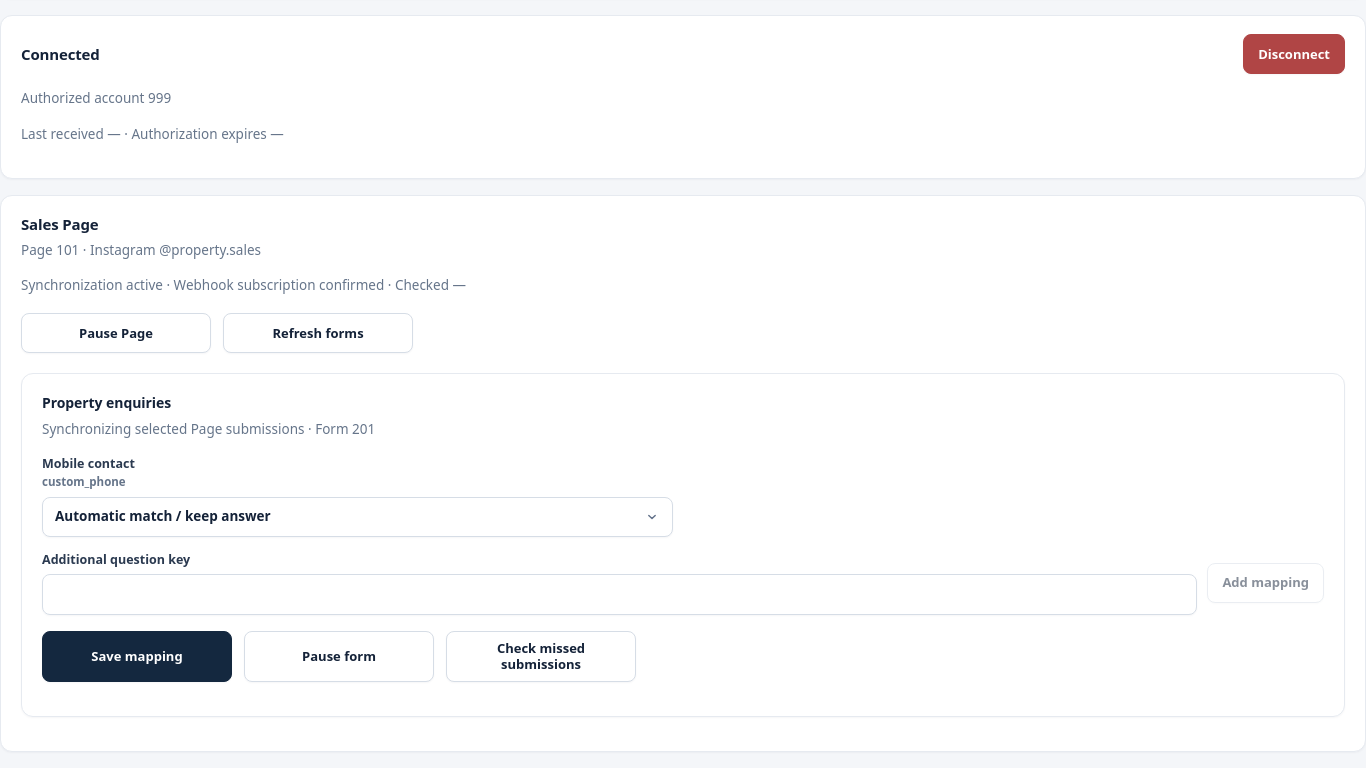
Meta integration and incoming leads interface › displays connection, selected Page, Instagram identity and form mapping controls
(page scrolled)
Expected: the heading "Sales Page" is shown, x1=21 y1=214 x2=98 y2=234
Expected: the text "Page 101 · Instagram @property.sales" is shown, x1=21 y1=241 x2=261 y2=259
Select "phone" in the dropdown named "Map custom_phone" at (358,517), box x1=42 y1=497 x2=673 y2=537
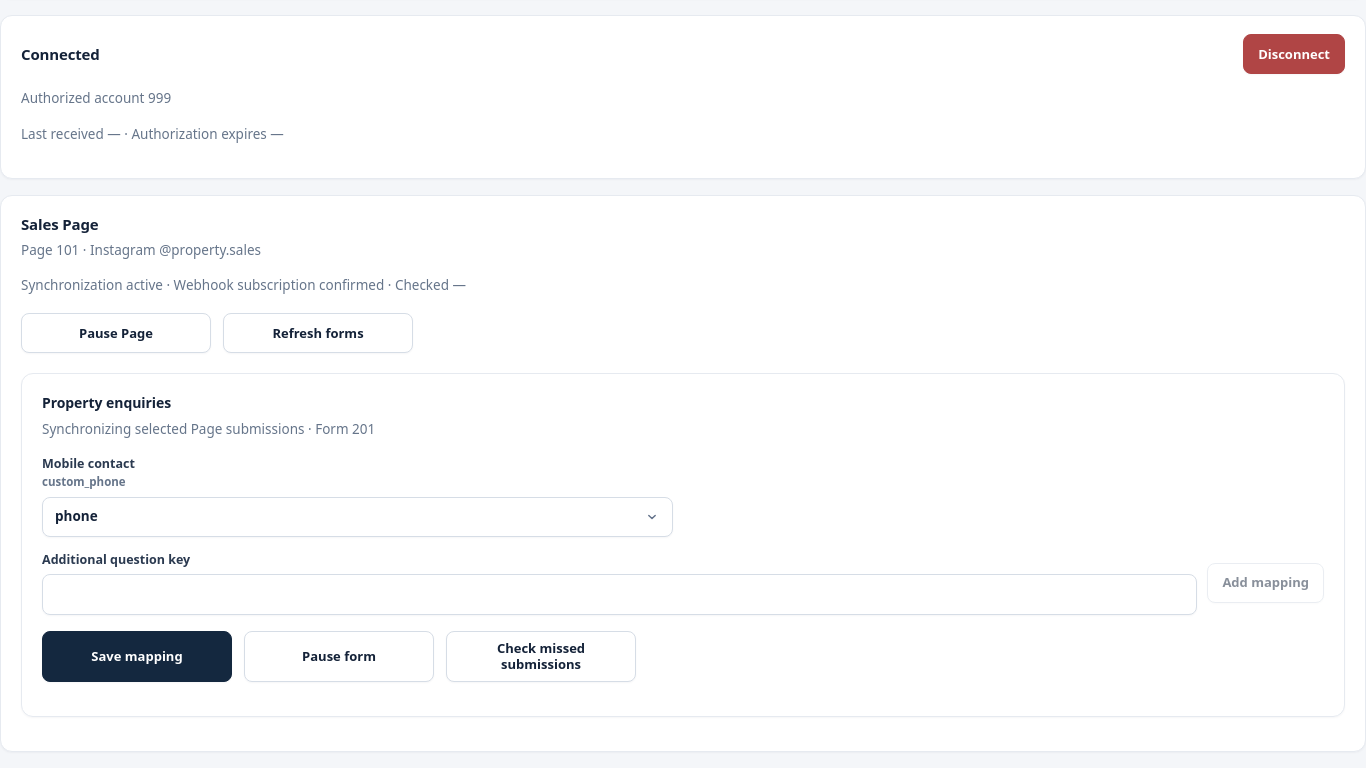
Click the button "Save mapping".
click(137, 656)  # box x1=42 y1=631 x2=232 y2=682
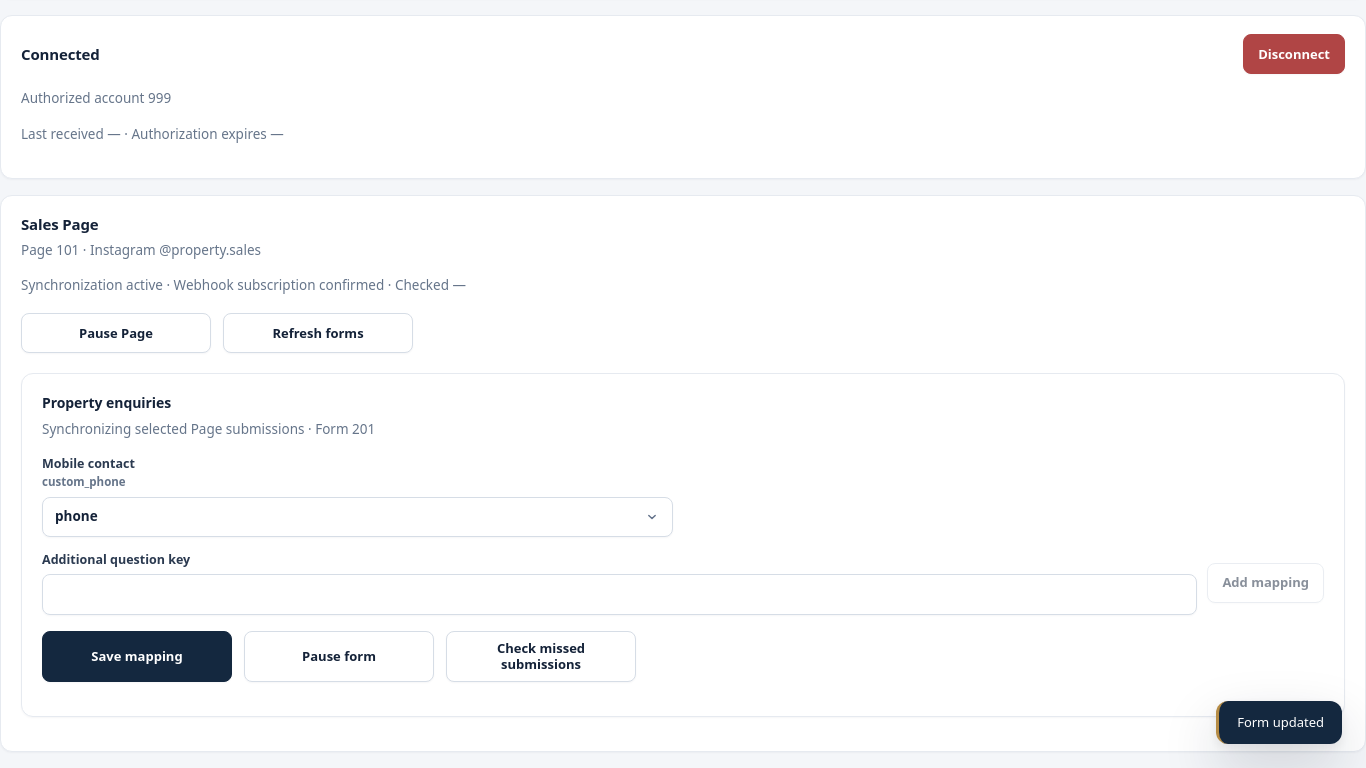
Expected: the text "Form updated" is shown, x1=1216 y1=700 x2=1342 y2=744
